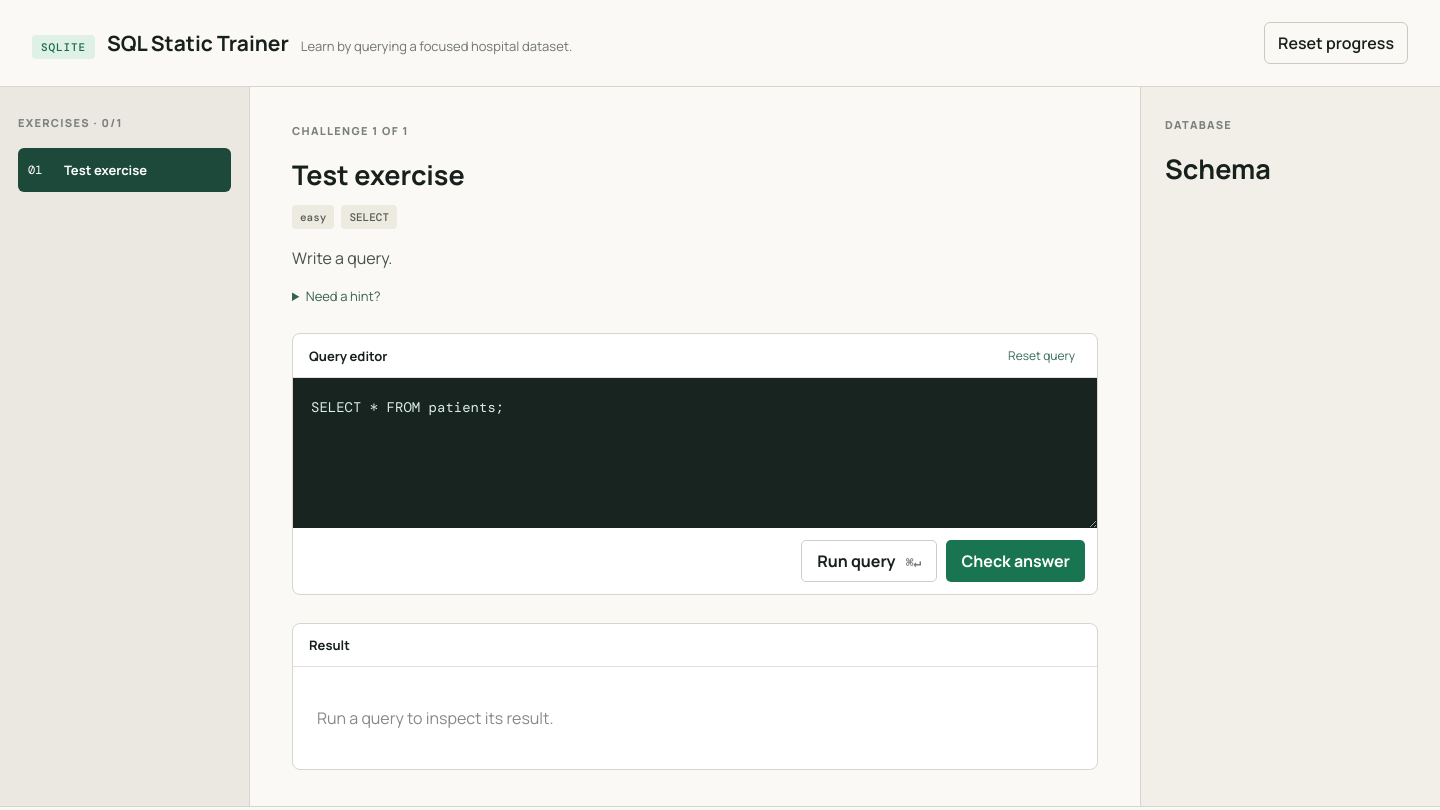
Test: App › restores the controls and reports an unexpected execution failure
Click the button "Check answer" at (1016, 561), box [946,540,1085,582]
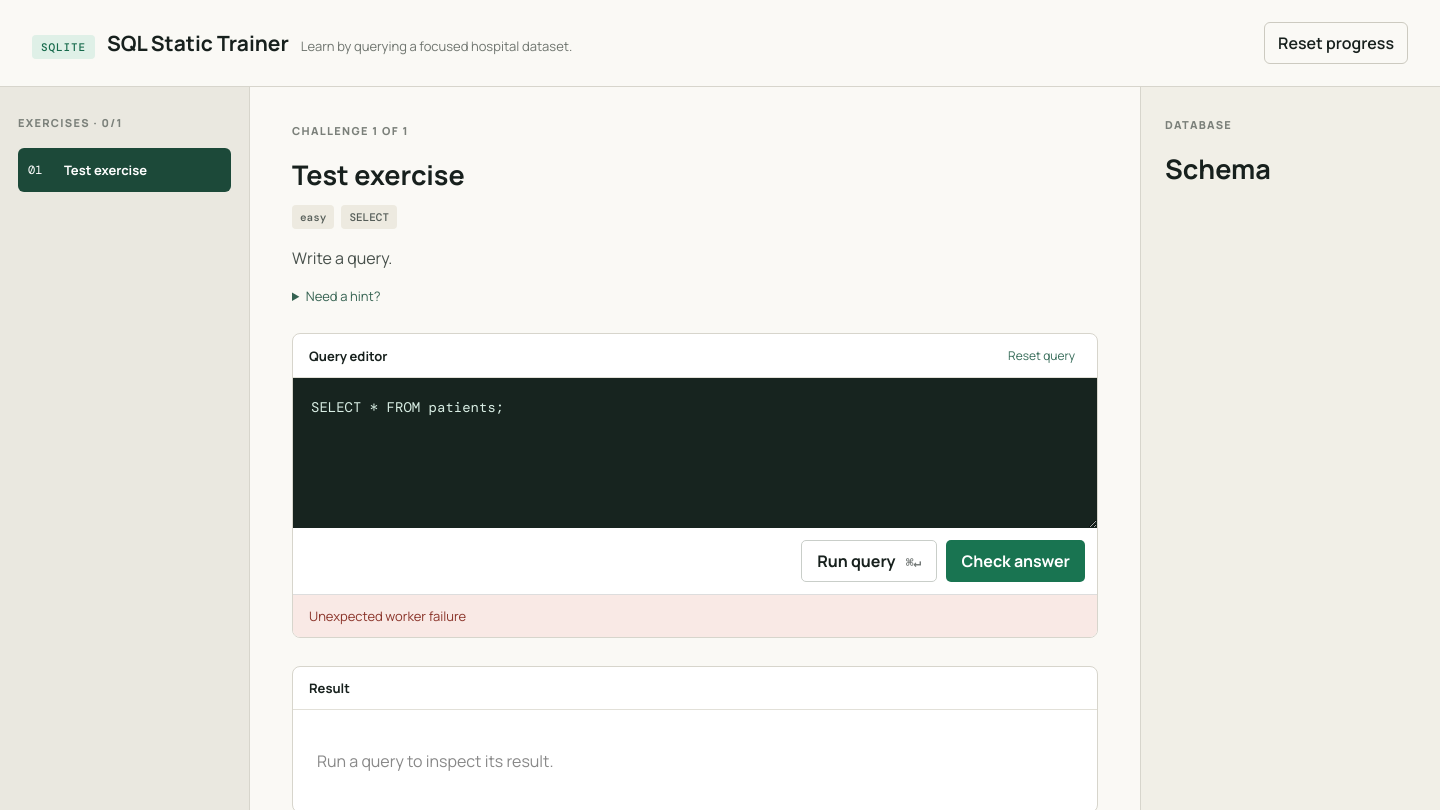
Expected: the message reads "Unexpected worker failure", [309,607,466,625]
